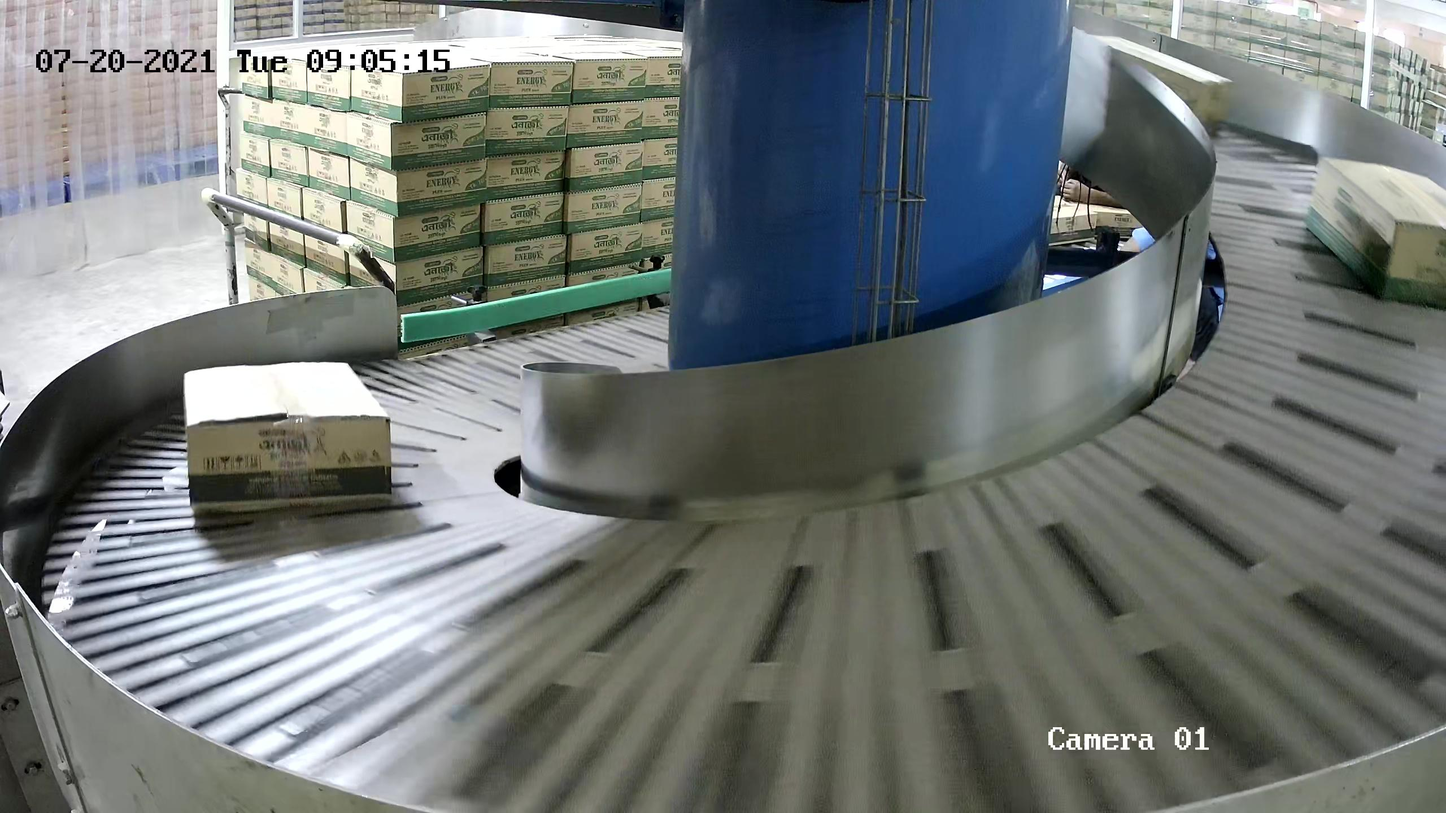Box: (182, 361, 393, 515), (1303, 155, 1446, 308), (1083, 32, 1234, 135)
